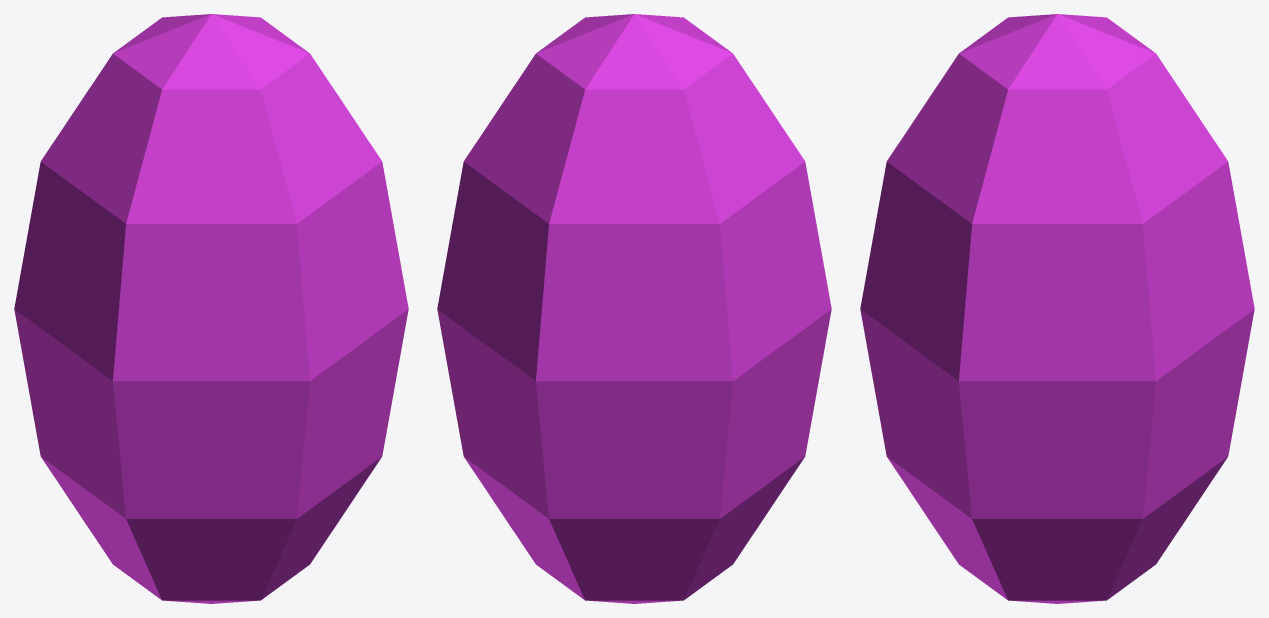
The model's file is debug_orb.fbx.
3 renders of one model, left to right at view 1: azimuth 30°, elevation 25°; view 2: azimuth 150°, elevation 25°; view 3: azimuth 270°, elevation 25°, orthographic.
Parts seen in each view (by area): view 1: Debug_Orb; view 2: Debug_Orb; view 3: Debug_Orb.
Part boxes in pixels (box(x1,y1,x2,y2)): Debug_Orb: box(14, 14, 408, 603); Debug_Orb: box(437, 14, 831, 603); Debug_Orb: box(860, 14, 1254, 603).
Size of the model in its own units: 42.04 by 80.1 by 48.54.
